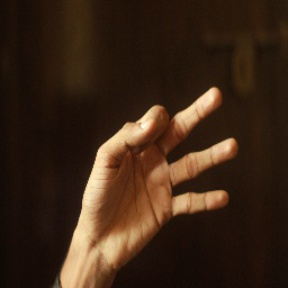K: (83, 83, 243, 242)
